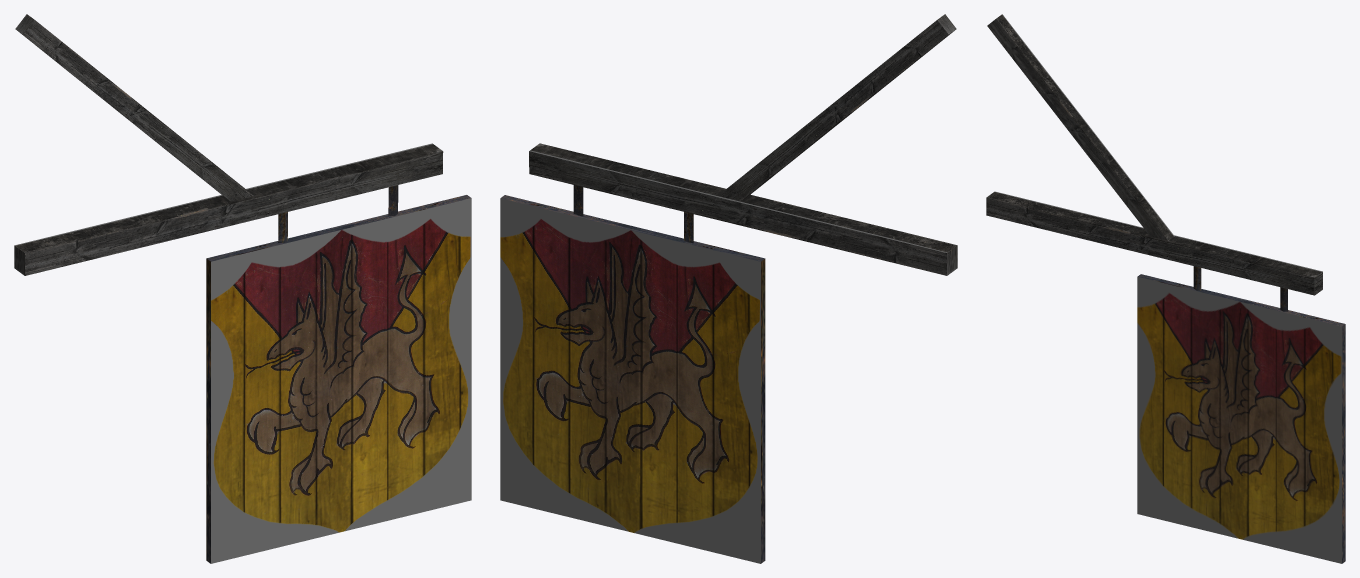
Rendered from emblem02_LOD03.fbx.
The picture shows the model from 3 angles, left to right: view 1: azimuth 30°, elevation 25°; view 2: azimuth 150°, elevation 25°; view 3: azimuth 330°, elevation 25°; orthographic projection. The views are drawn at different scales.
Parts seen in each view (by area): view 1: Mesh Object; view 2: Mesh Object; view 3: Mesh Object.
Boxes of the visible parts, x1,y1,x2,y2 form: Mesh Object: [14, 14, 471, 563]; Mesh Object: [500, 14, 957, 563]; Mesh Object: [986, 14, 1345, 563].
Size of the model in its own units: 1.53 by 1.91 by 0.0628.
